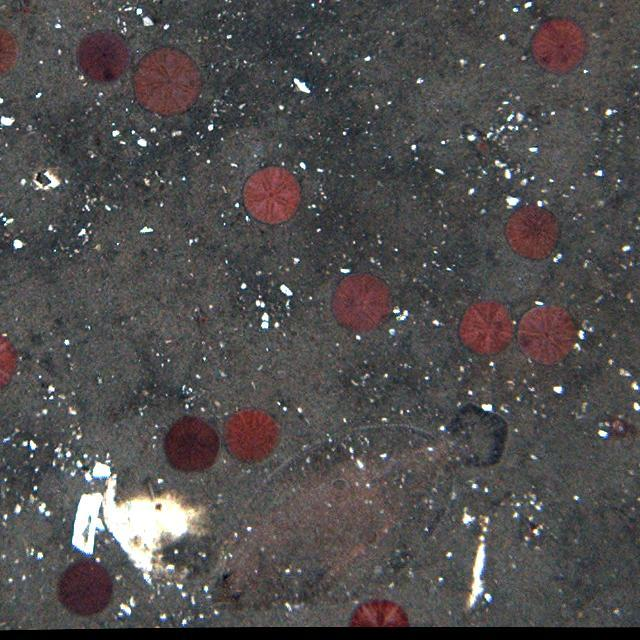flatfish: (206, 403, 510, 611)
